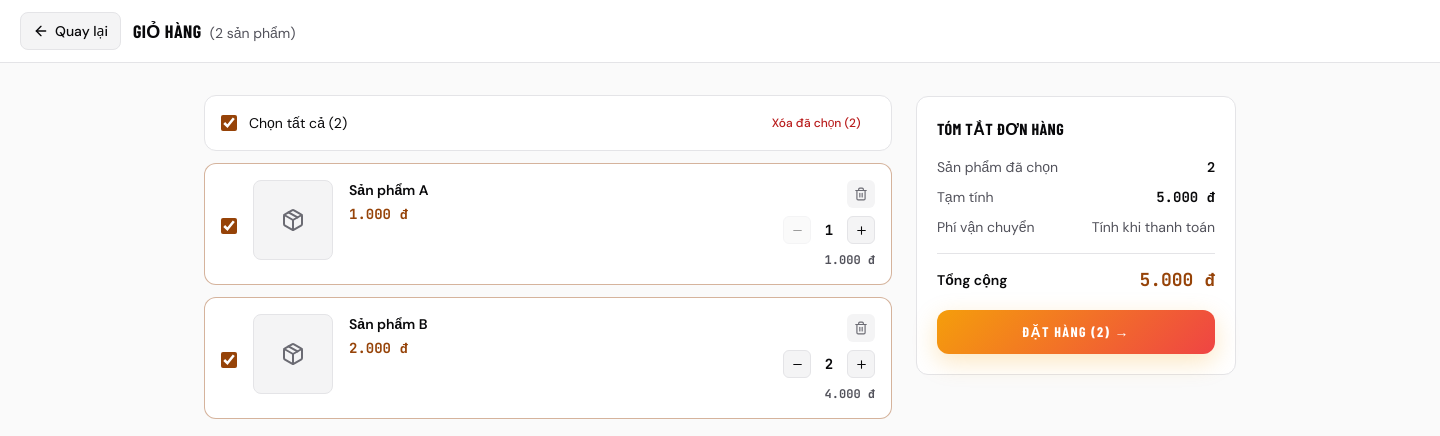
CartPage after a line is removed › drops the removed line from the count and keeps select-all checked
Check: the button "ĐẶT HÀNG (2) →" is shown, box [937,310,1215,354]
Click the button named "Xóa Sản phẩm B khỏi giỏ hàng" at (861, 328), box [847,314,875,342]
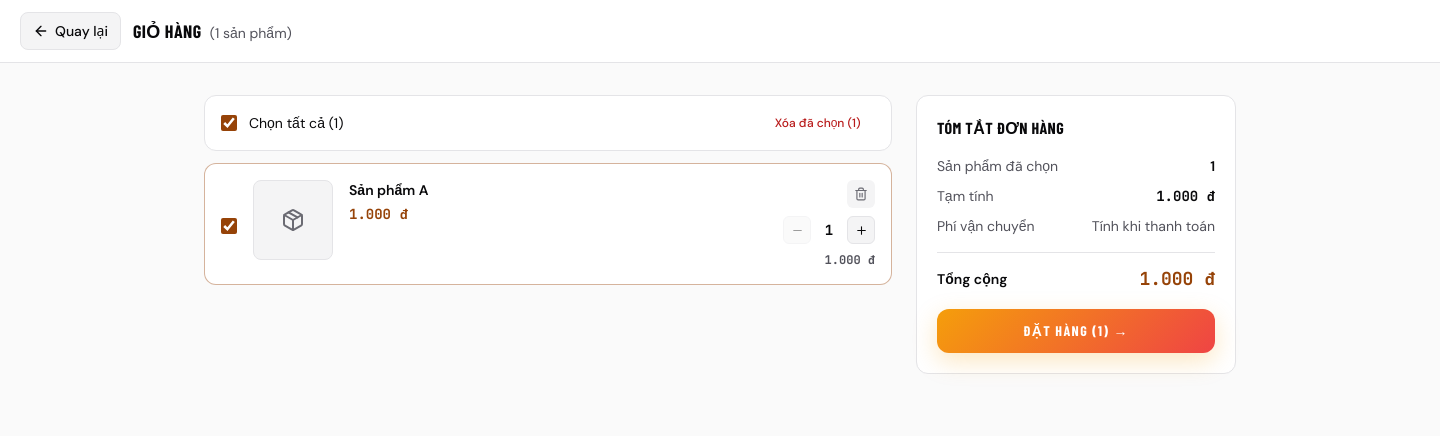
Check: the number of checkboxes is 2, box [221,115,237,131]; [221,218,237,234]
Check: the button "ĐẶT HÀNG (1) →" is shown, box [937,309,1215,353]
